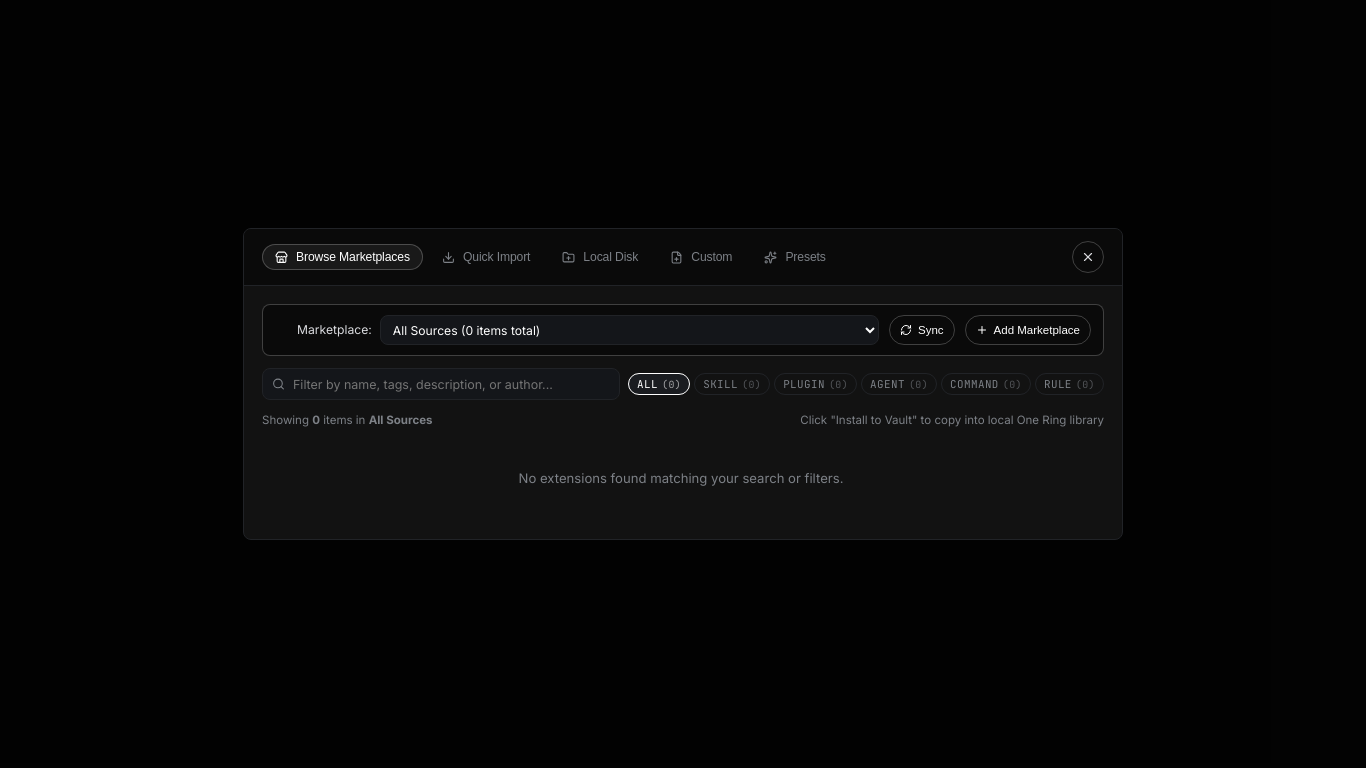
InstallExtensionModal Component › shows sync failures instead of silently succeeding
Click the button "Sync".
click(922, 330)  # box [889,315,955,345]
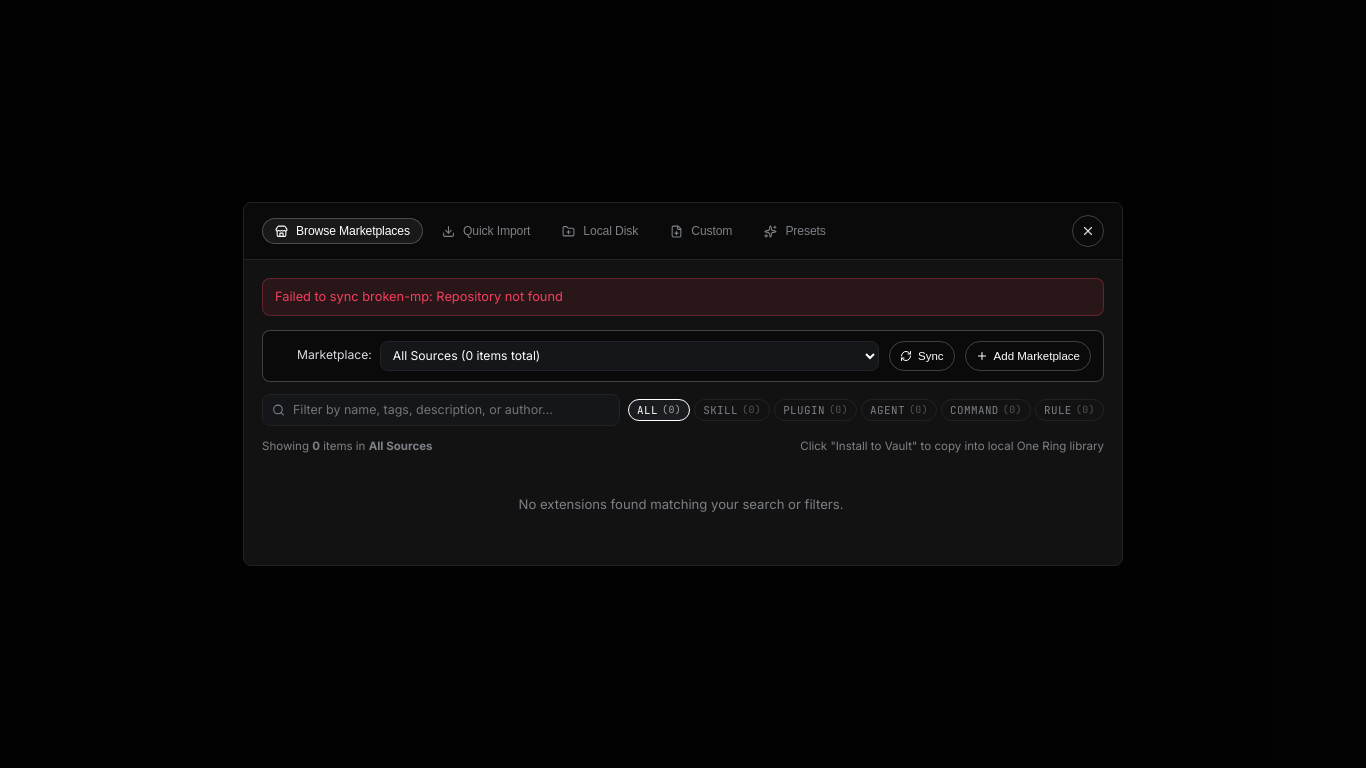
Now the text "Failed to sync broken-mp: Repository not found" is shown, box [262,278,1104,316]
